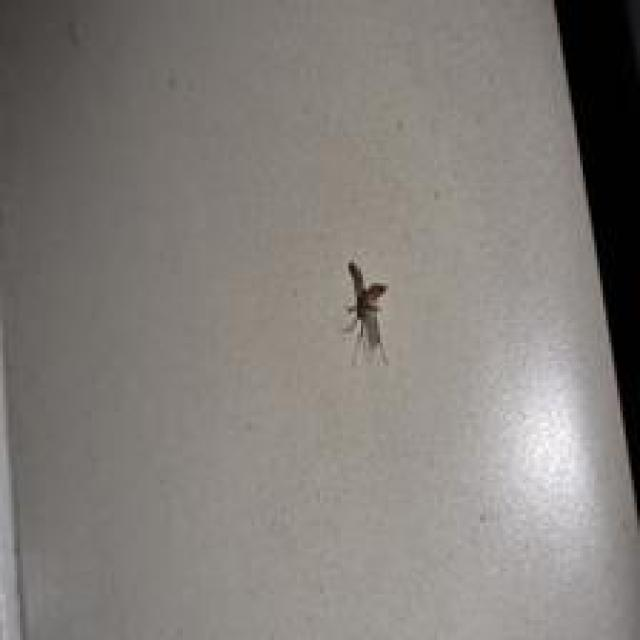Culex: (341, 259, 390, 367)
